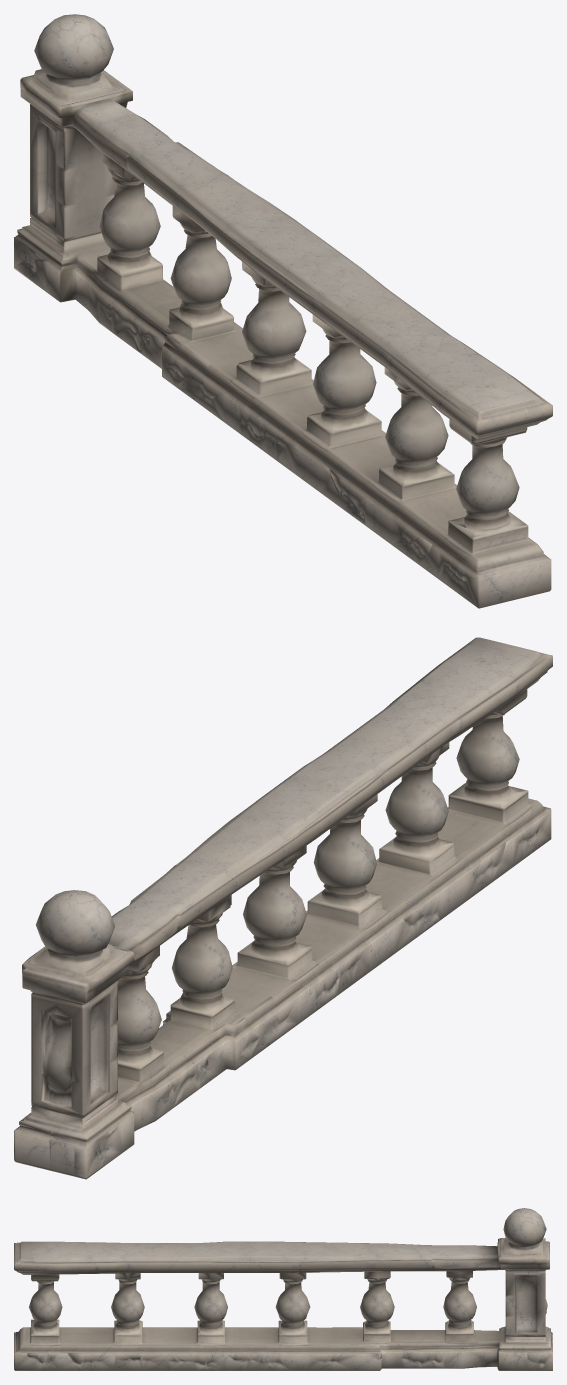
File: SM_Env_Balustrade.fbx
The picture shows the model from 3 angles, top to bottom: view 1: azimuth 30°, elevation 25°; view 2: azimuth 150°, elevation 25°; view 3: azimuth 270°, elevation 25°; orthographic projection. The views are drawn at different scales.
Parts seen in each view (by area): view 1: SM_Env_Balustrade; view 2: SM_Env_Balustrade; view 3: SM_Env_Balustrade.
Part boxes in pixels (left/top/right/bottom): SM_Env_Balustrade: left=14, top=14, right=552, bottom=608; SM_Env_Balustrade: left=14, top=637, right=552, bottom=1179; SM_Env_Balustrade: left=14, top=1208, right=552, bottom=1370.
Bounding box in the file's own units: 14.38 × 150 × 46.09.
1 material, 1 textured.
